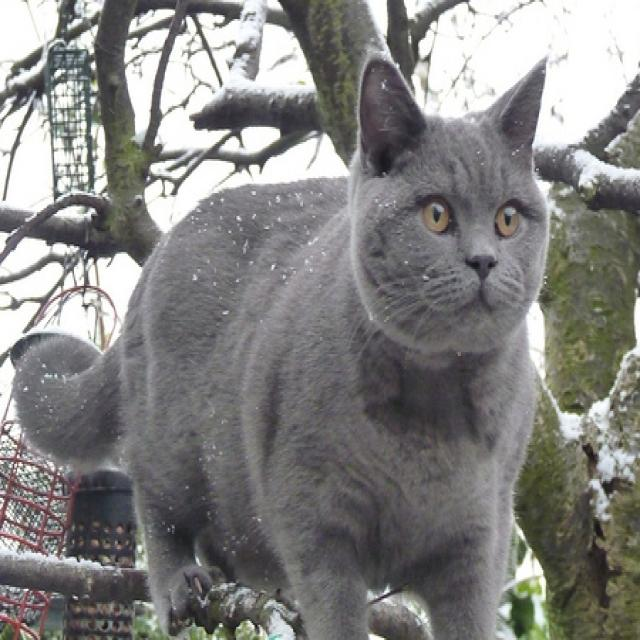British Shorthair: (8, 49, 550, 640)
